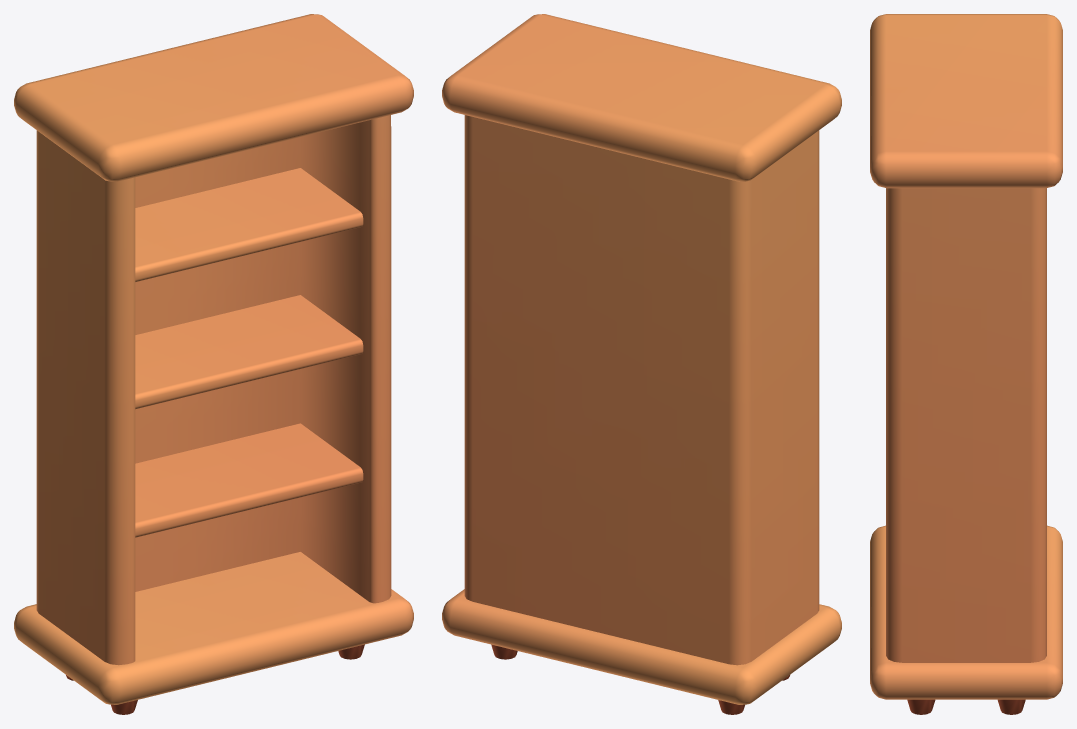
File: Closet_01.glb
The picture shows the model from 3 angles, left to right: view 1: azimuth 30°, elevation 25°; view 2: azimuth 150°, elevation 25°; view 3: azimuth 270°, elevation 25°; orthographic projection. The views are drawn at different scales.
Visible parts, largest first — view 1: Closet_01; view 2: Closet_01; view 3: Closet_01.
Boxes of the visible parts, box(x1,y1,x2,y2) form: Closet_01: box(14, 14, 413, 714); Closet_01: box(442, 14, 841, 714); Closet_01: box(870, 14, 1062, 714).
Size of the model in its own units: 0.88 by 1.58 by 0.48.
1 material, 1 textured.
